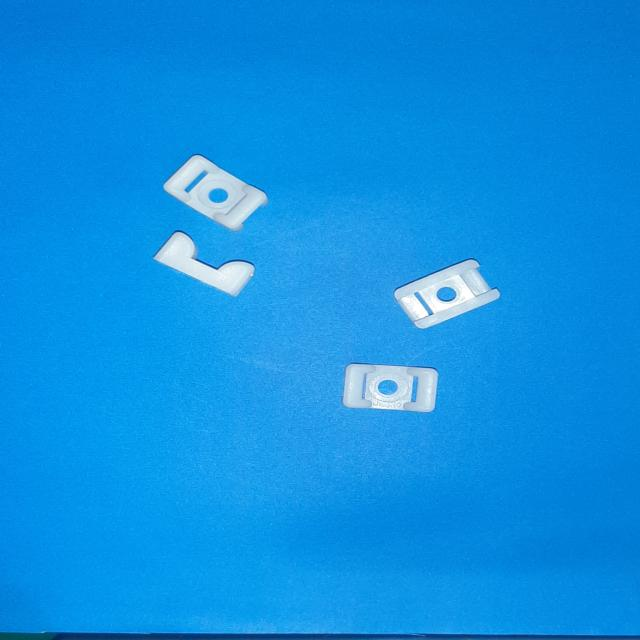false_1: (395, 259, 500, 329)
false_2: (153, 231, 255, 296)
true: (163, 155, 268, 231), (342, 364, 438, 412)
true_center: (378, 380, 398, 395), (208, 189, 229, 203)
